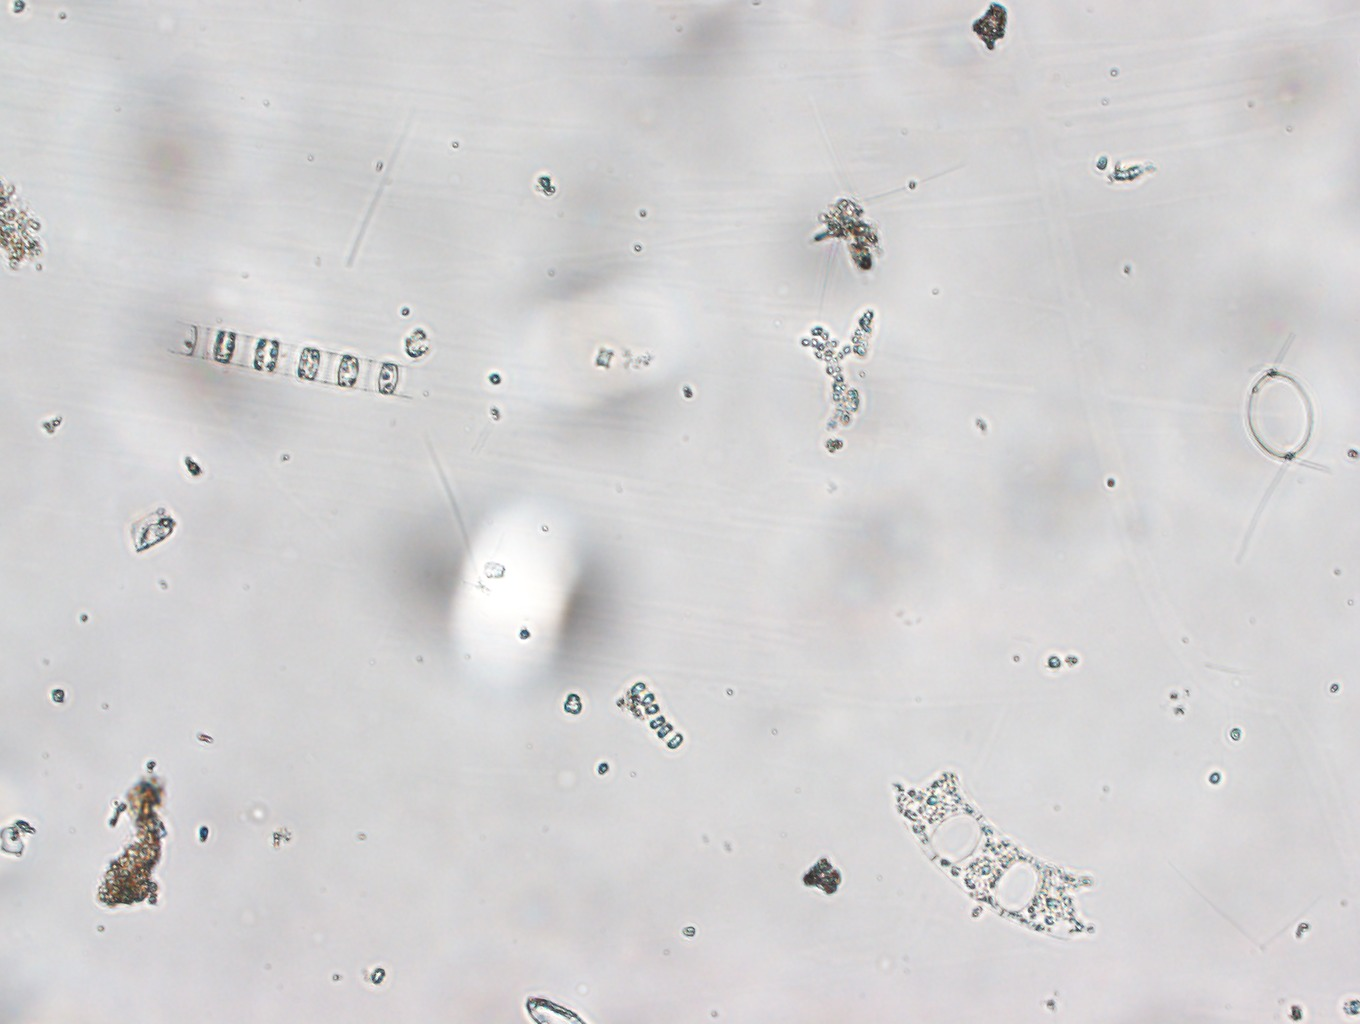eucampia: (888, 768, 1102, 933)
skeletonema: (151, 284, 547, 431)
